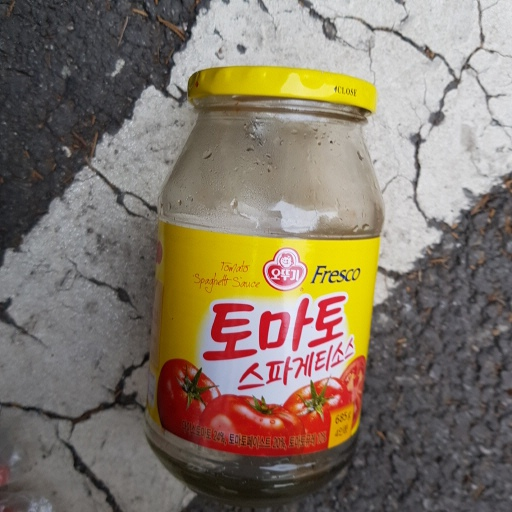Glass_5: (151, 62, 386, 494)
